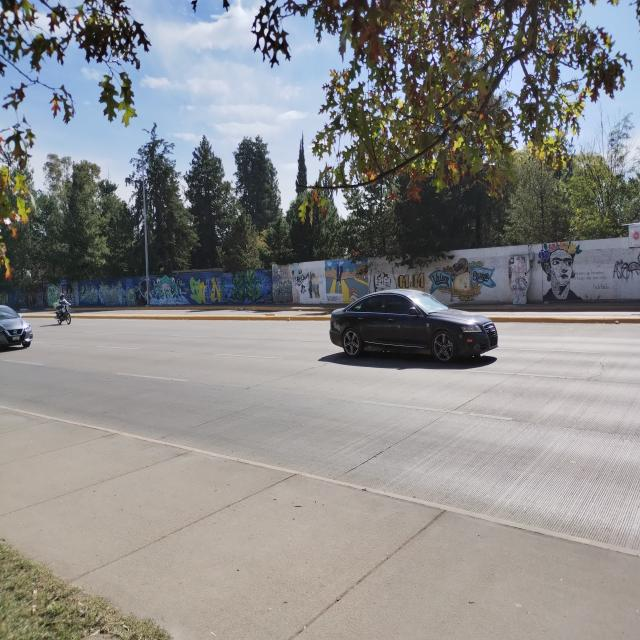Auto: (328, 288, 501, 361), (0, 302, 32, 353)
